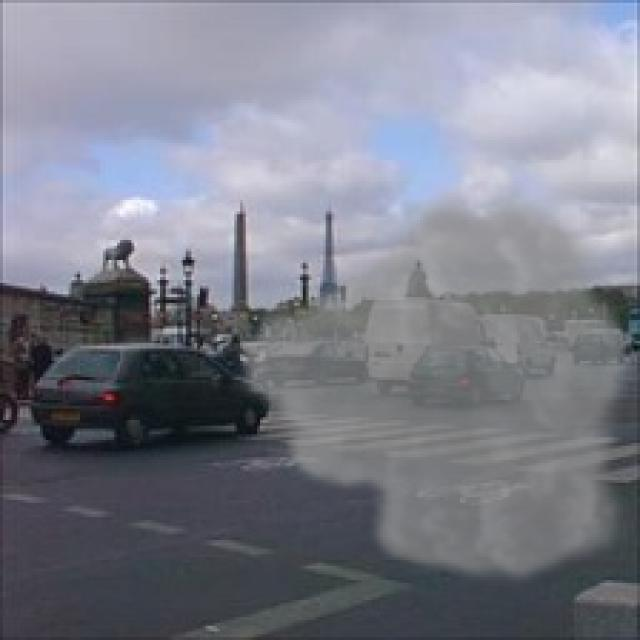Smoke: (225, 186, 638, 588)
